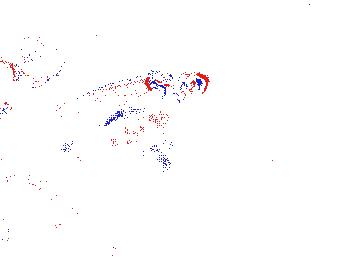glassfish: (49, 68, 174, 111)
red belly glassfish: (156, 71, 208, 101)
